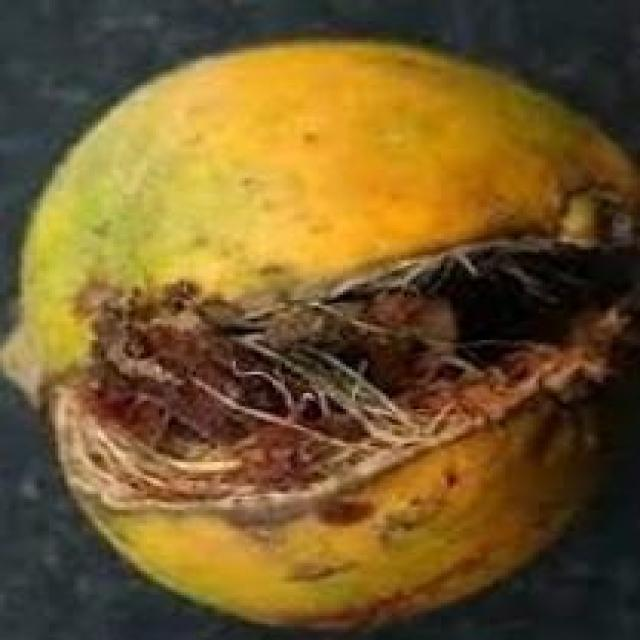damaged: (0, 35, 637, 637)
